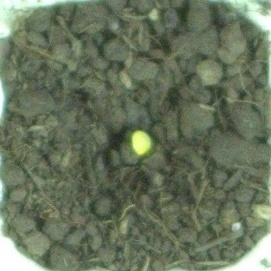chilli seed: (129, 129, 154, 156)
